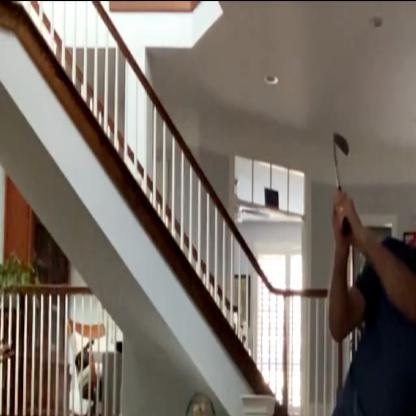GolfBall: (330, 127, 352, 156)
